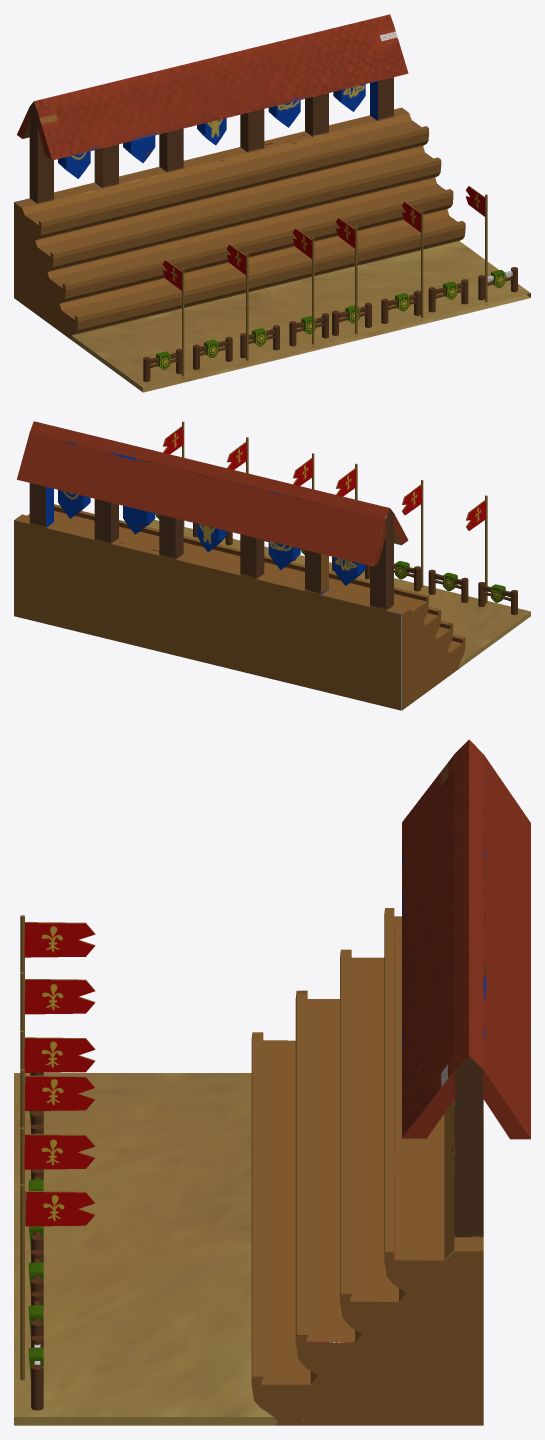
The model's file is arena1.6.fbx.
The picture shows the model from 3 angles, top to bottom: view 1: azimuth 30°, elevation 25°; view 2: azimuth 150°, elevation 25°; view 3: azimuth 270°, elevation 25°; orthographic projection. The views are drawn at different scales.
Parts seen in each view (by area): view 1: Cube; view 2: Cube; view 3: Cube.
Boxes of the visible parts, left/top/right/bottom form: Cube: left=14, top=14, right=530, bottom=392; Cube: left=14, top=421, right=530, bottom=710; Cube: left=14, top=739, right=530, bottom=1425.
Bounding box in the file's own units: 2982 × 1439 × 1893.
